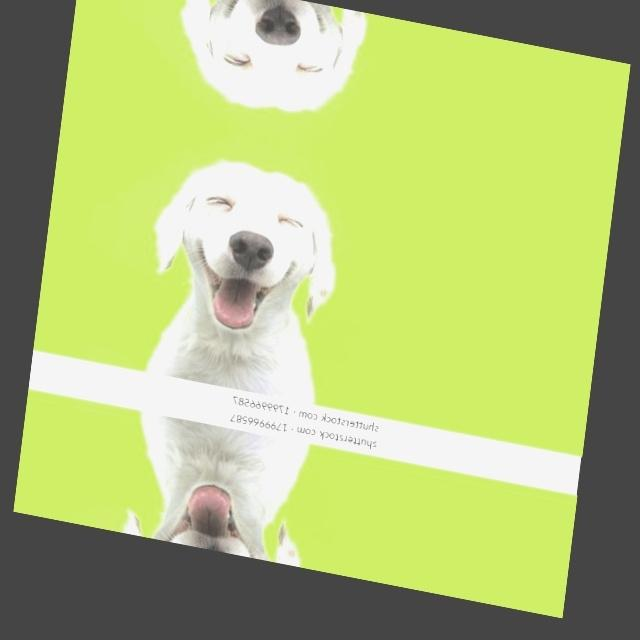dog: (140, 126, 362, 350), (166, 0, 381, 149), (114, 466, 321, 570)
